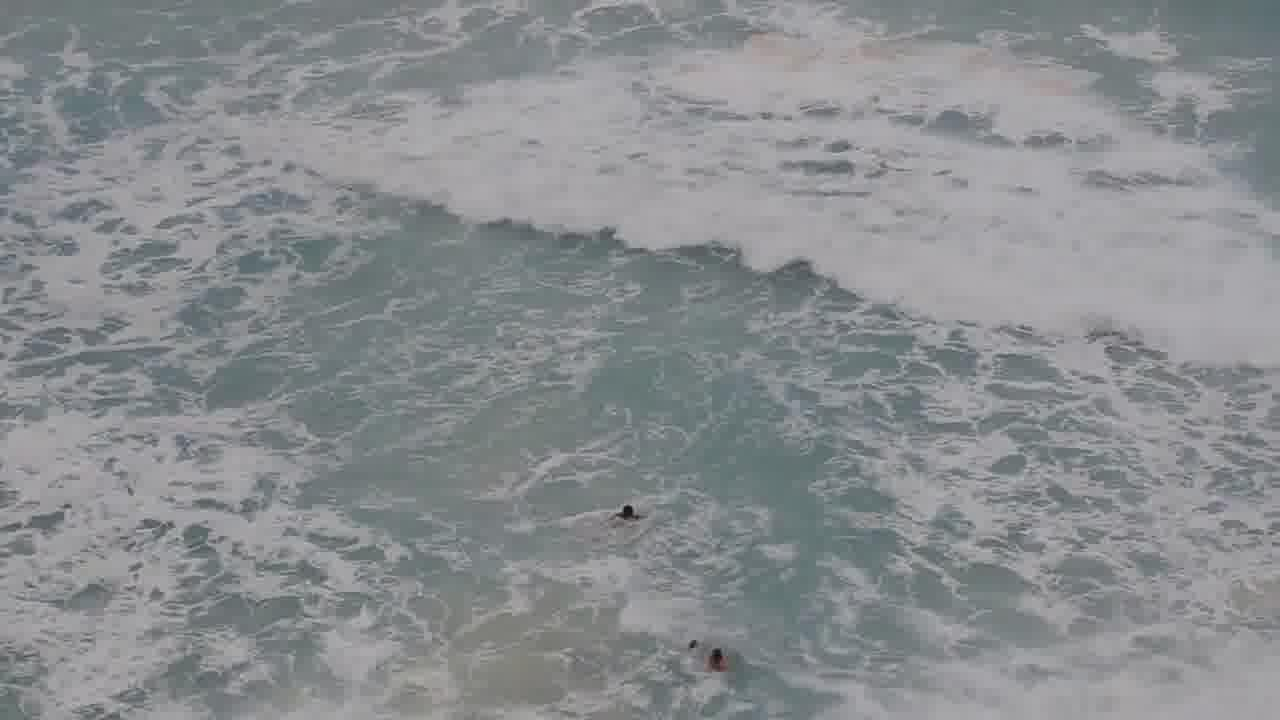swimmer: (702, 626, 736, 688), (602, 492, 638, 532)
